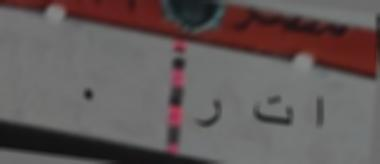0: (72, 78, 100, 112)
alif: (305, 92, 330, 134)
raa: (191, 90, 224, 136)
taa: (247, 86, 296, 132)
